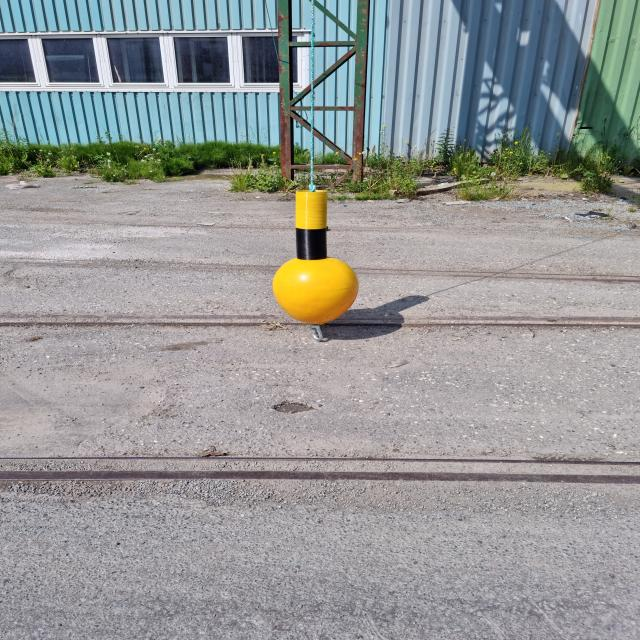west: (271, 190, 359, 322)
